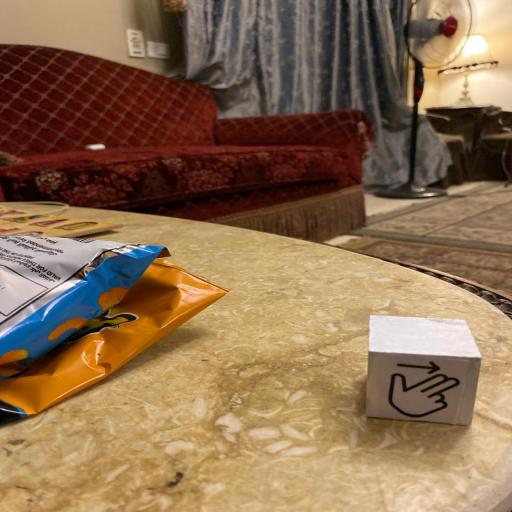RightSwipe: (364, 313, 481, 425)
